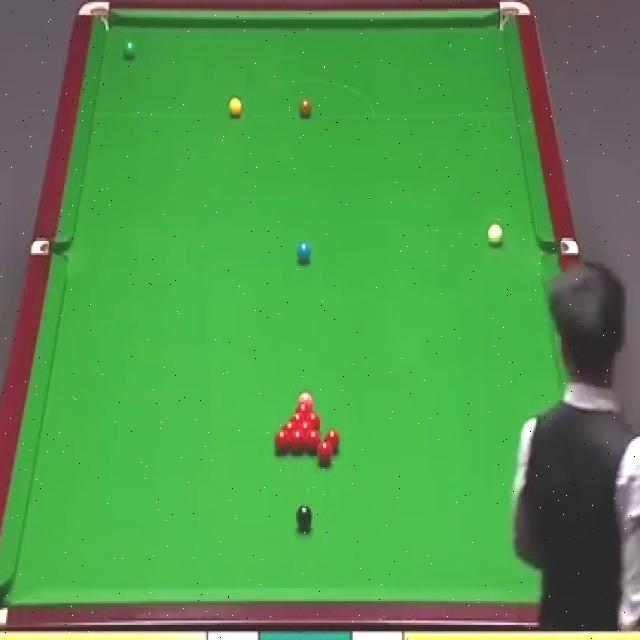black-ball: (296, 504, 312, 534)
blue-ball: (295, 241, 312, 266)
brown-ball: (298, 95, 312, 119)
green-ball: (122, 40, 136, 60)
pink-ball: (298, 390, 313, 406)
red-ball: (326, 428, 342, 455), (317, 439, 333, 465), (289, 428, 304, 454), (274, 430, 289, 455), (306, 429, 320, 455), (306, 411, 322, 428), (290, 409, 308, 422), (297, 420, 315, 430), (282, 418, 298, 429), (297, 403, 313, 413)
white-ball: (486, 218, 504, 247)
yellow-ball: (228, 94, 243, 120)
